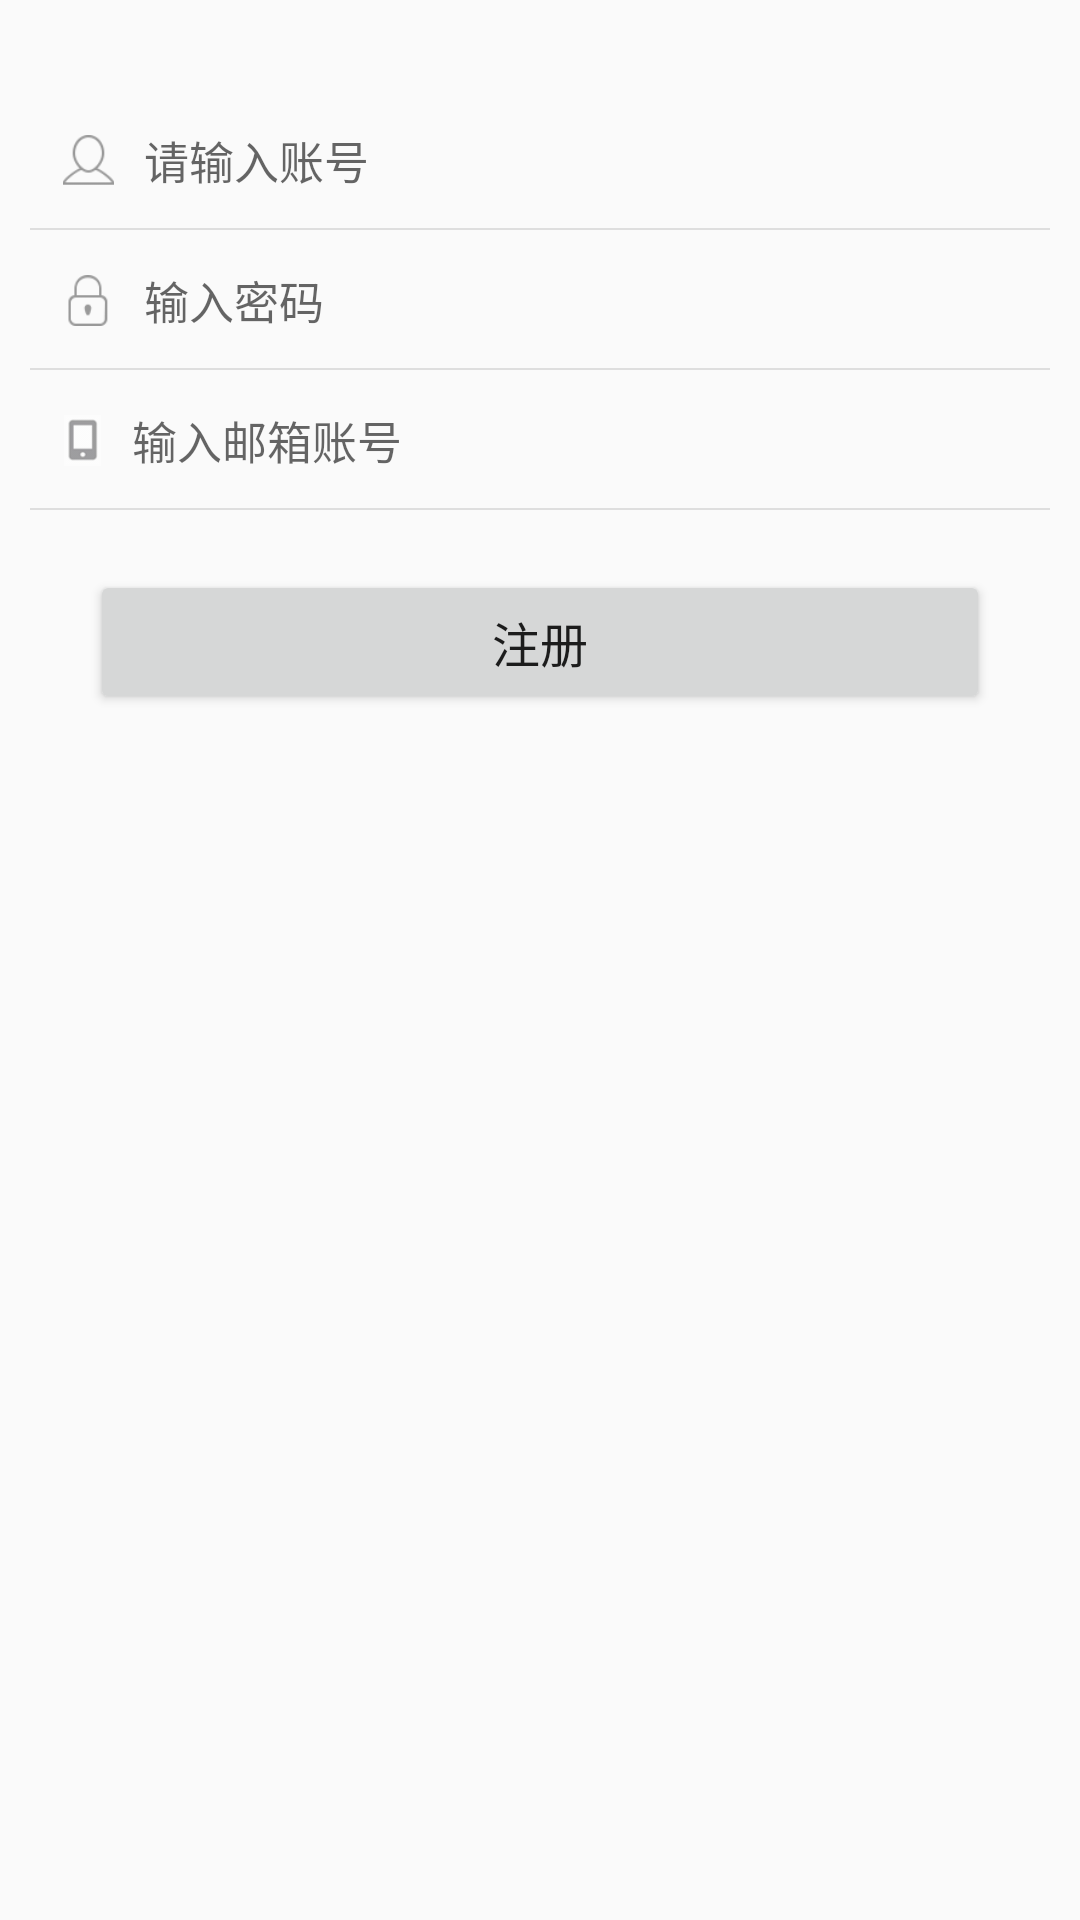

Where to tap for icons on this 1080×1920 app screen, as point (x, y):
login name: point (88, 160)
login password: point (88, 300)
login phone: point (83, 440)
